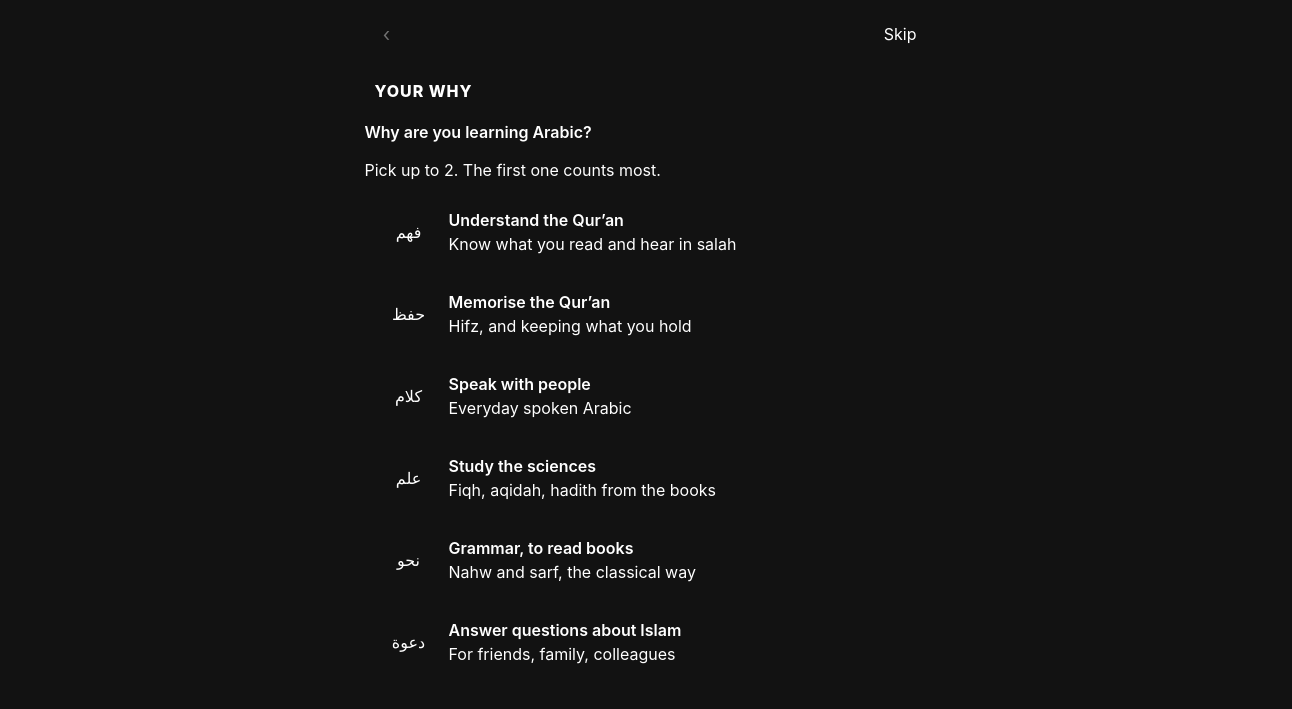
Test: first-visit questions › skips to the three-level picker, once
What coordinates should you click on to do the following:
click the button "Skip"
I would click on:
 (900, 34)
Its box is [876,12,924,56].
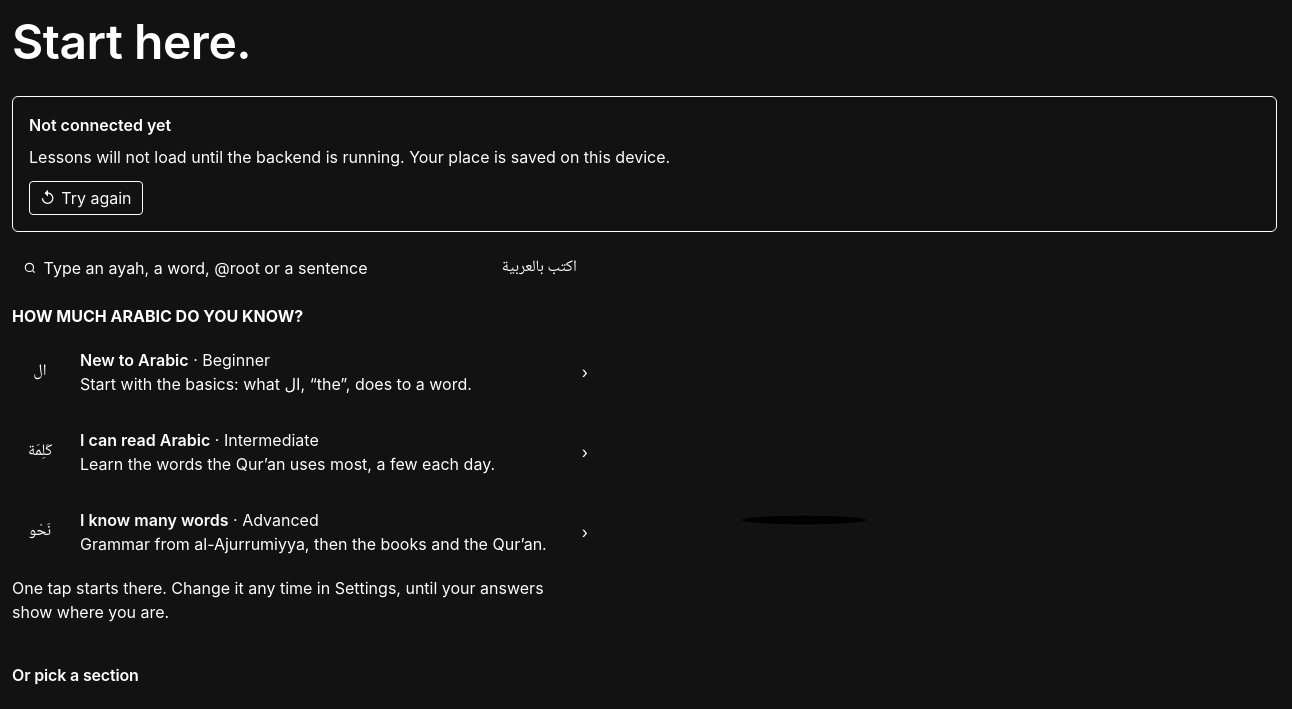
Expected: the element "How much Arabic do you know?" is shown, [12,304,588,624]
